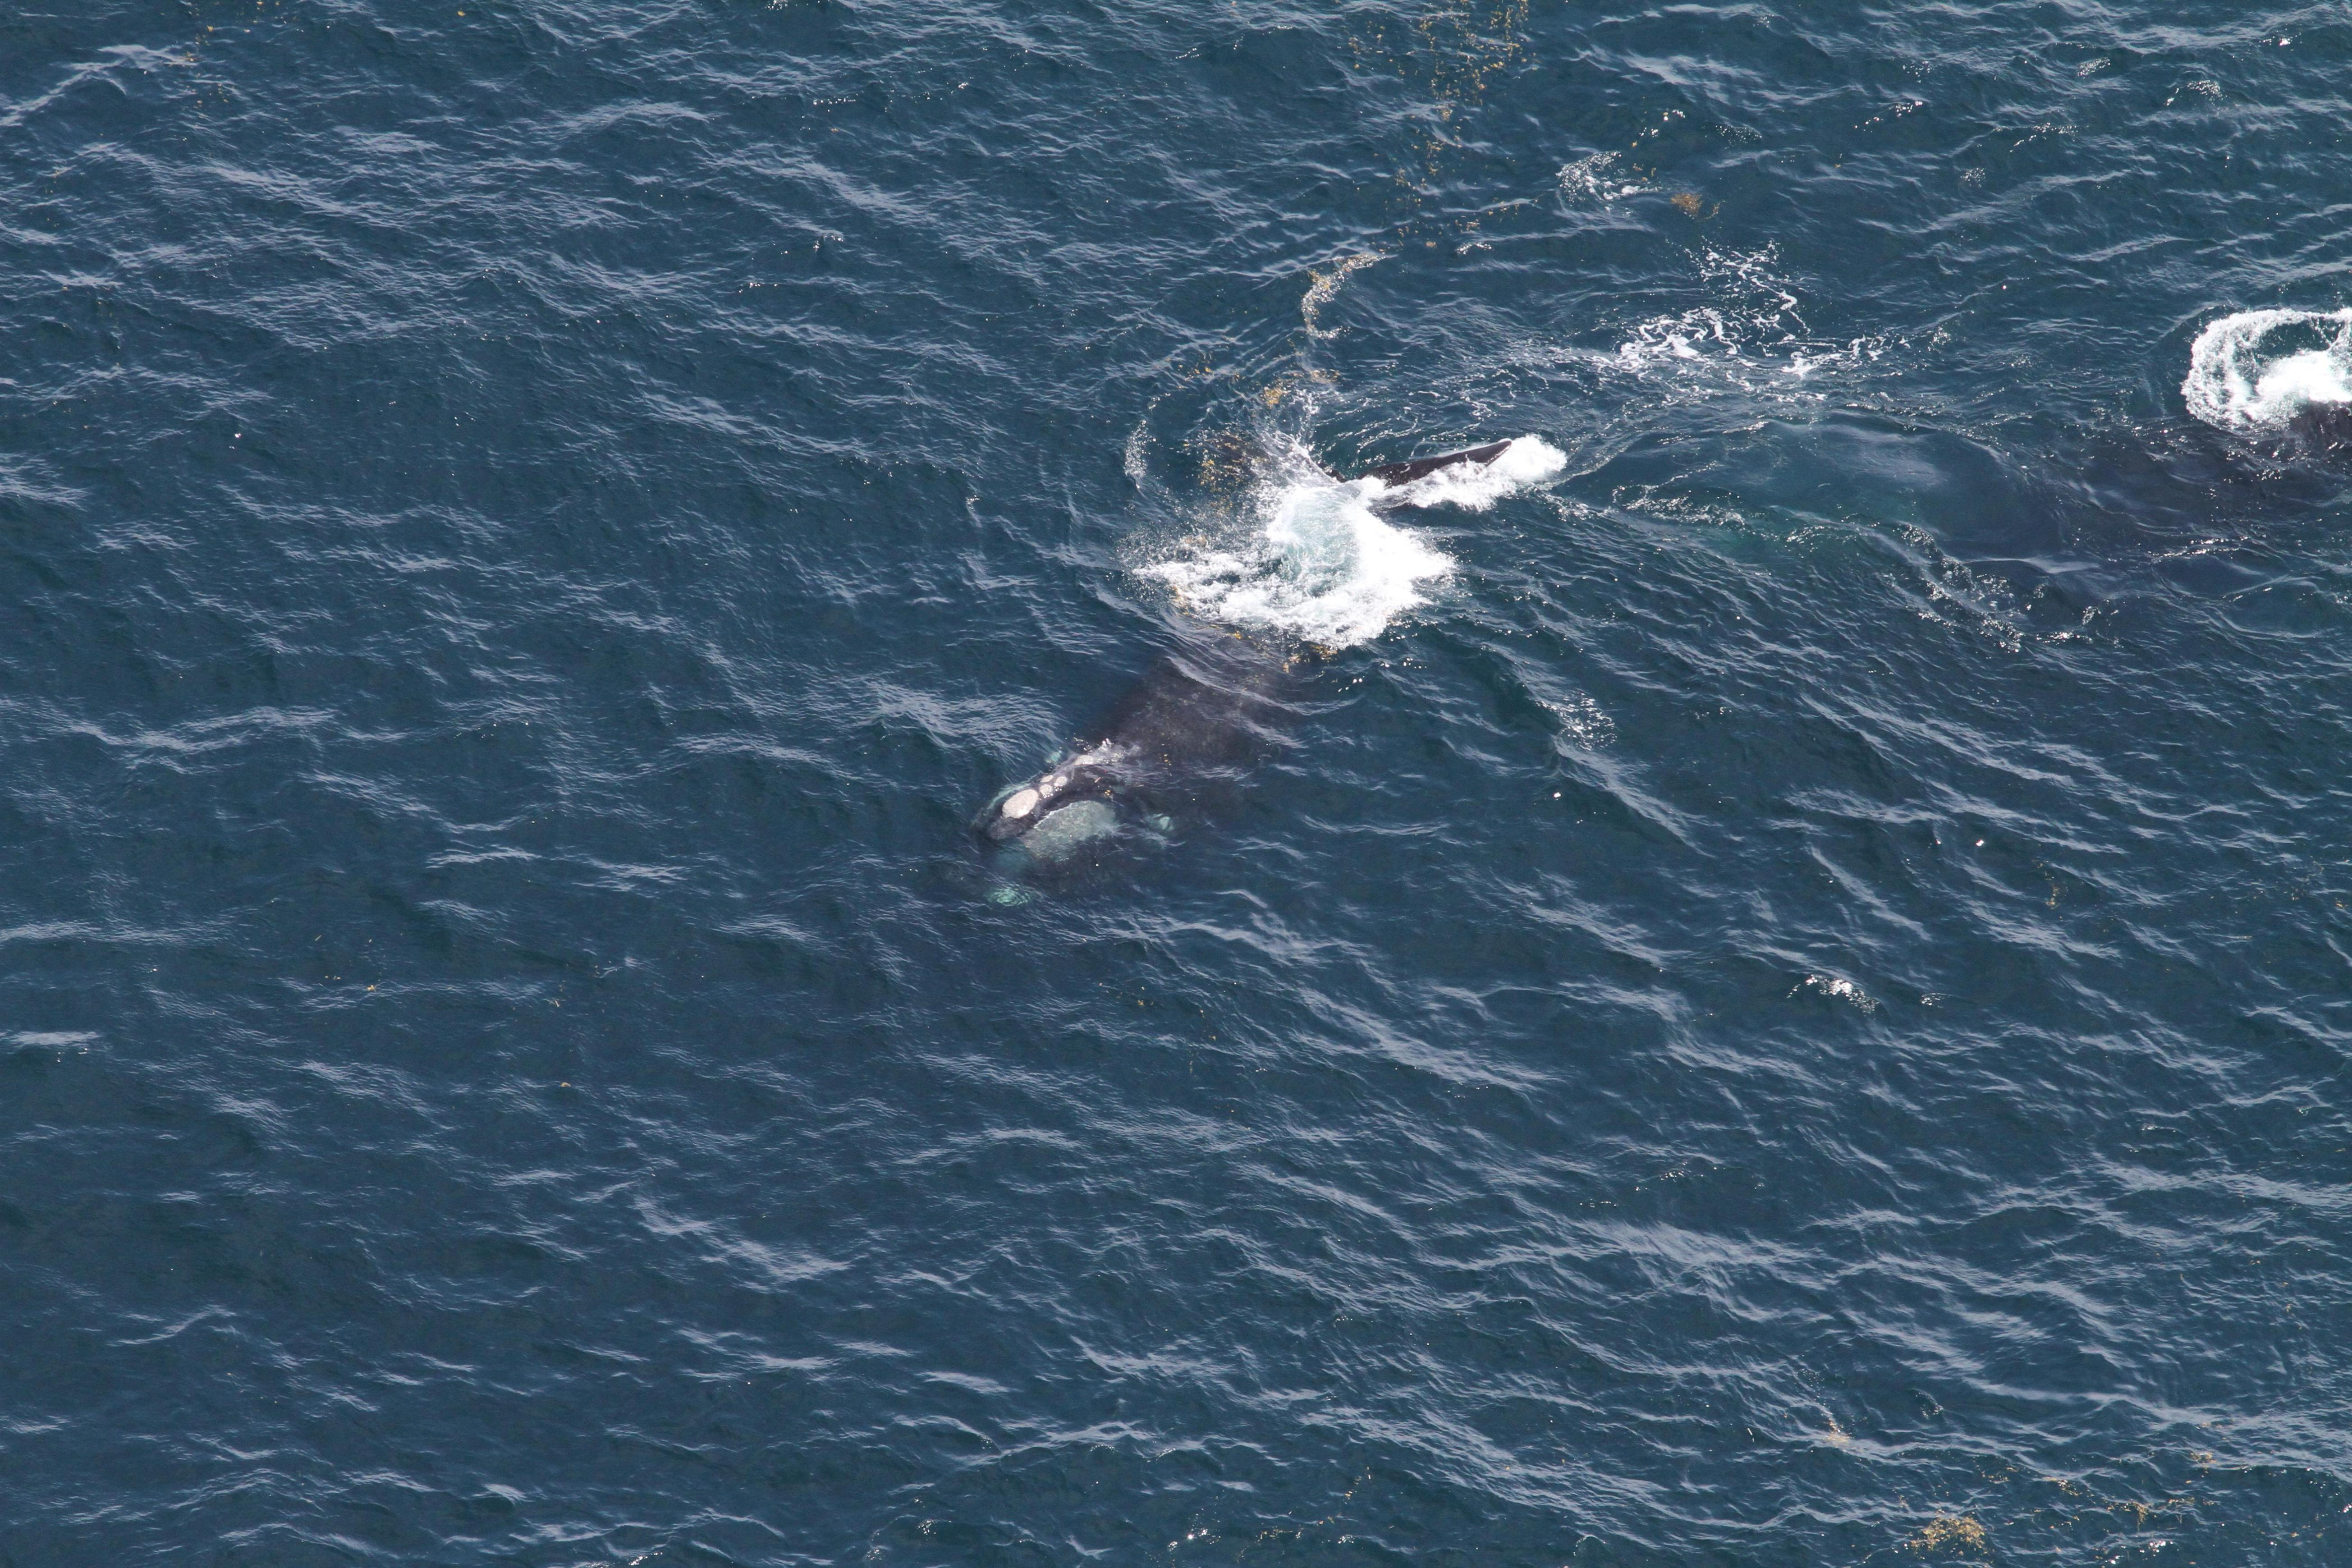whale: (975, 430, 1552, 905)
